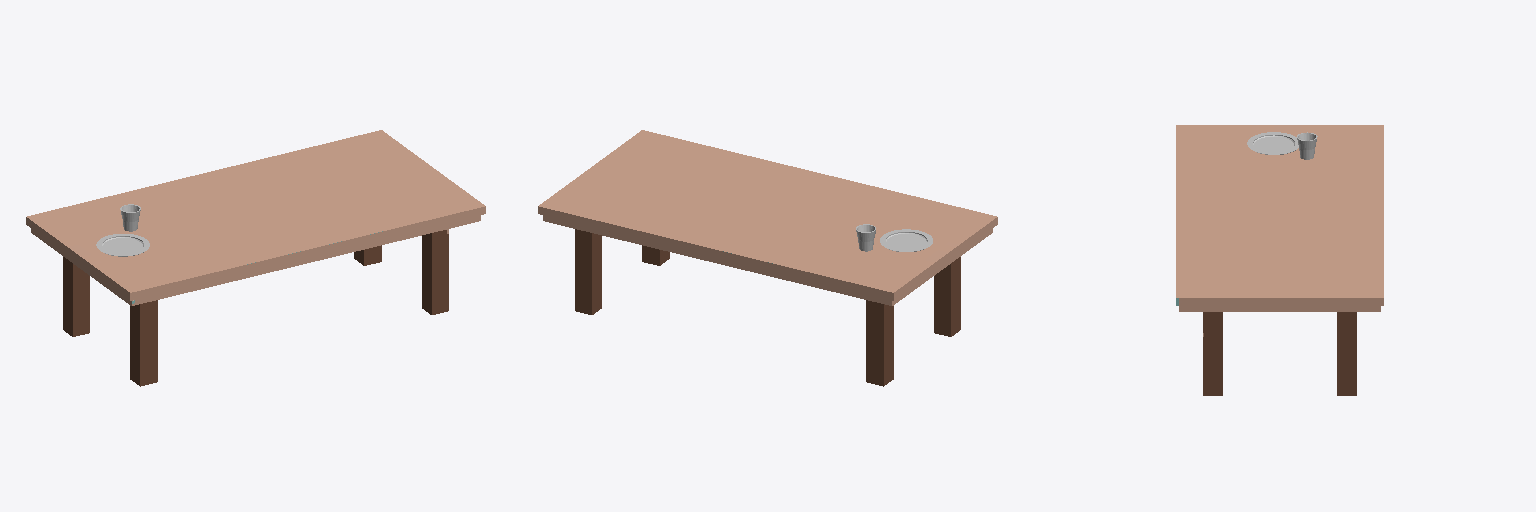
The picture shows the model from 3 angles: view 1: azimuth 30°, elevation 25°; view 2: azimuth 150°, elevation 25°; view 3: azimuth 270°, elevation 25°; orthographic projection.
Visible parts, largest first — view 1: Circle.003; view 2: Circle.003; view 3: Circle.003.
Part boxes in pixels (left/top/right/bottom): Circle.003: left=26, top=130, right=485, bottom=386; Circle.003: left=538, top=130, right=997, bottom=386; Circle.003: left=1176, top=125, right=1383, bottom=395.
Bounding box in the file's own units: 29.14 × 10.12 × 14.81.
Materials: 2 (1 with a texture image).